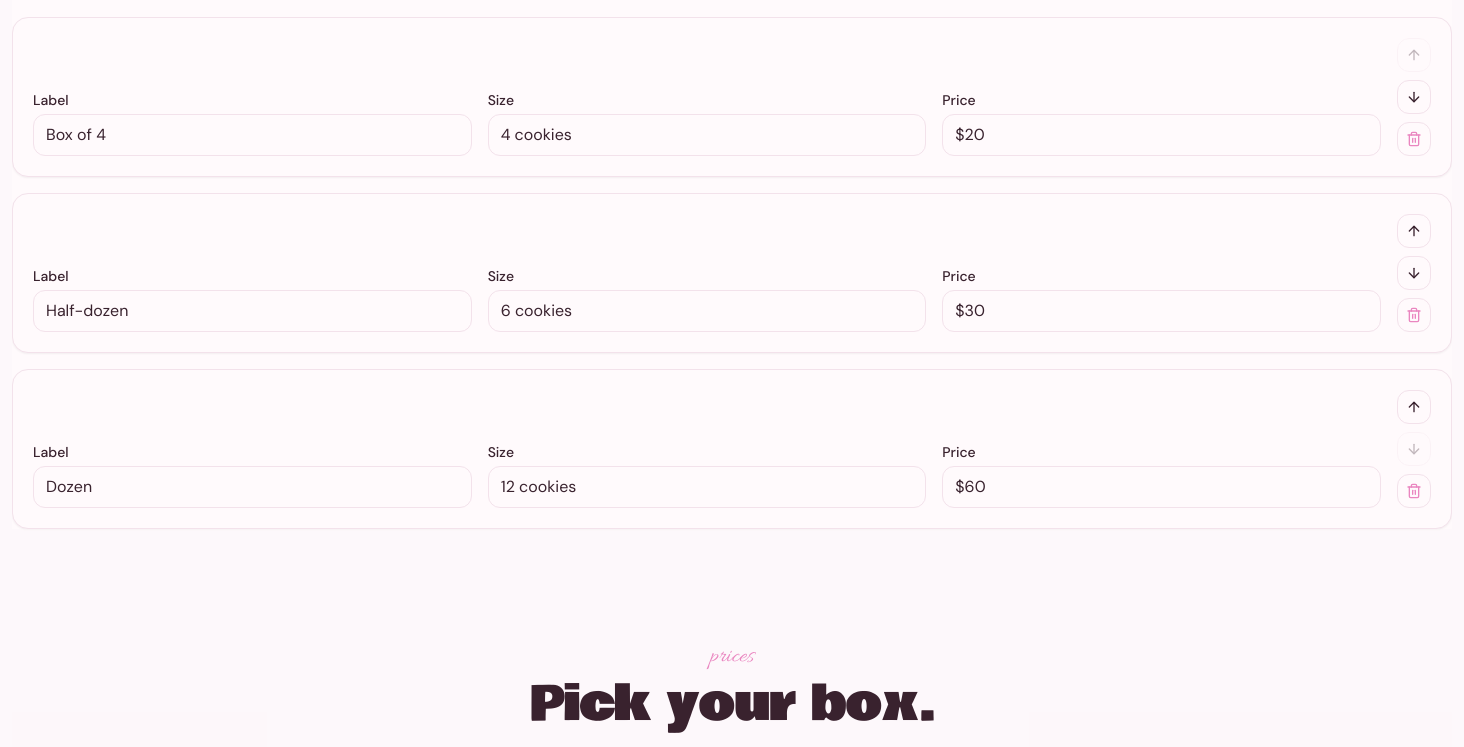
Test: contract: Pricing editor ↔ Pricing public component › editing a tier price propagates
This screenshot has width=1464, height=747.
Step 1. Type "$25" into the 1st field showing "$20" → (1162, 135), box x1=942 y1=114 x2=1381 y2=156
(page scrolled)
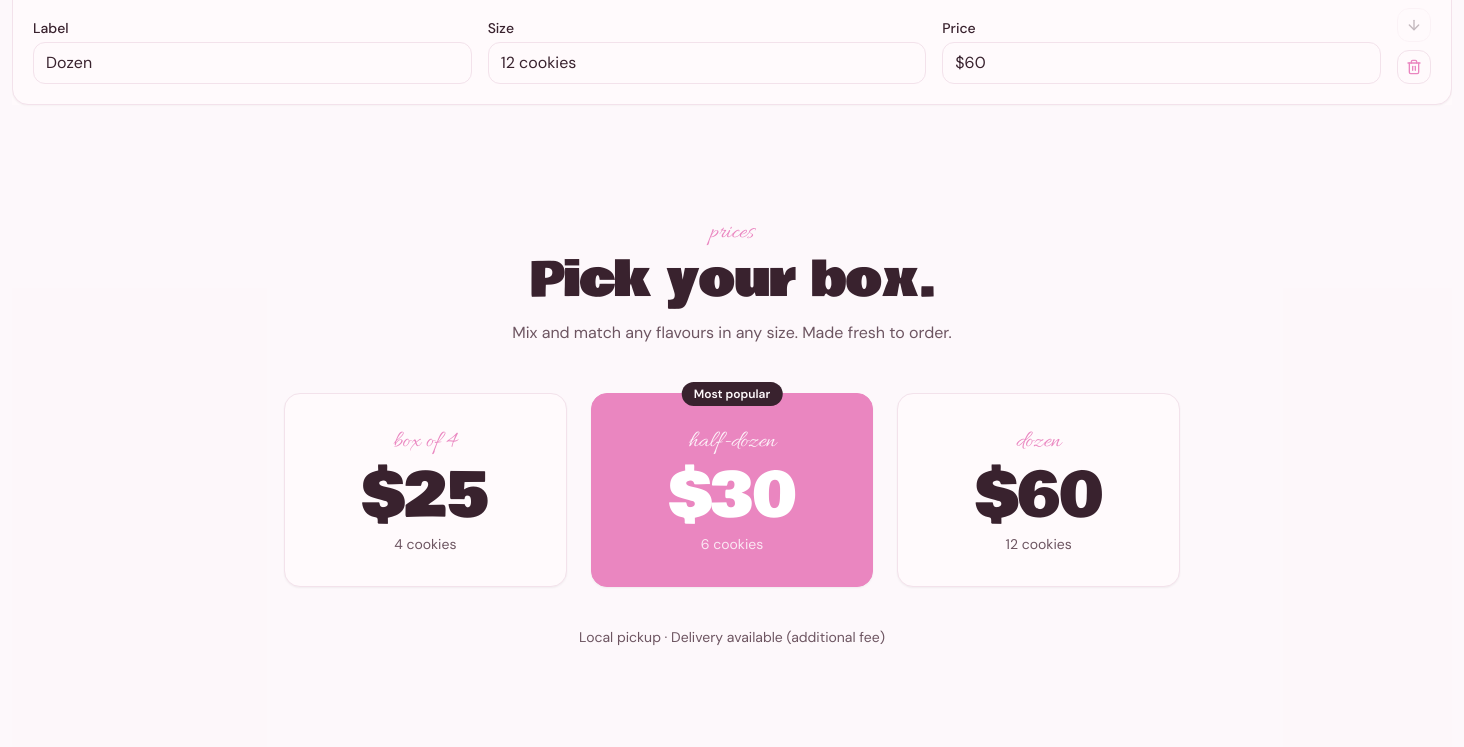
expect the text "$25" is shown: met, box x1=361 y1=449 x2=489 y2=543
